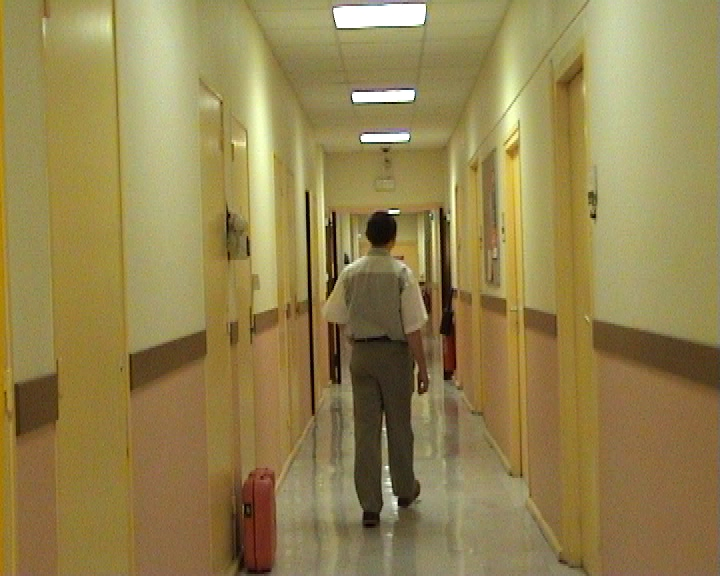leave bag unattended: (212, 451, 296, 576)
